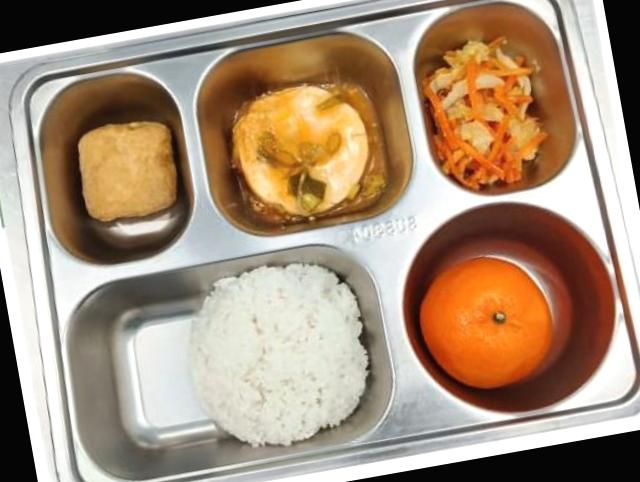buah: (419, 257, 552, 389)
nasi: (188, 263, 368, 447)
sayur: (422, 37, 548, 190)
tahu: (77, 122, 176, 221)
telur: (231, 86, 369, 216)
